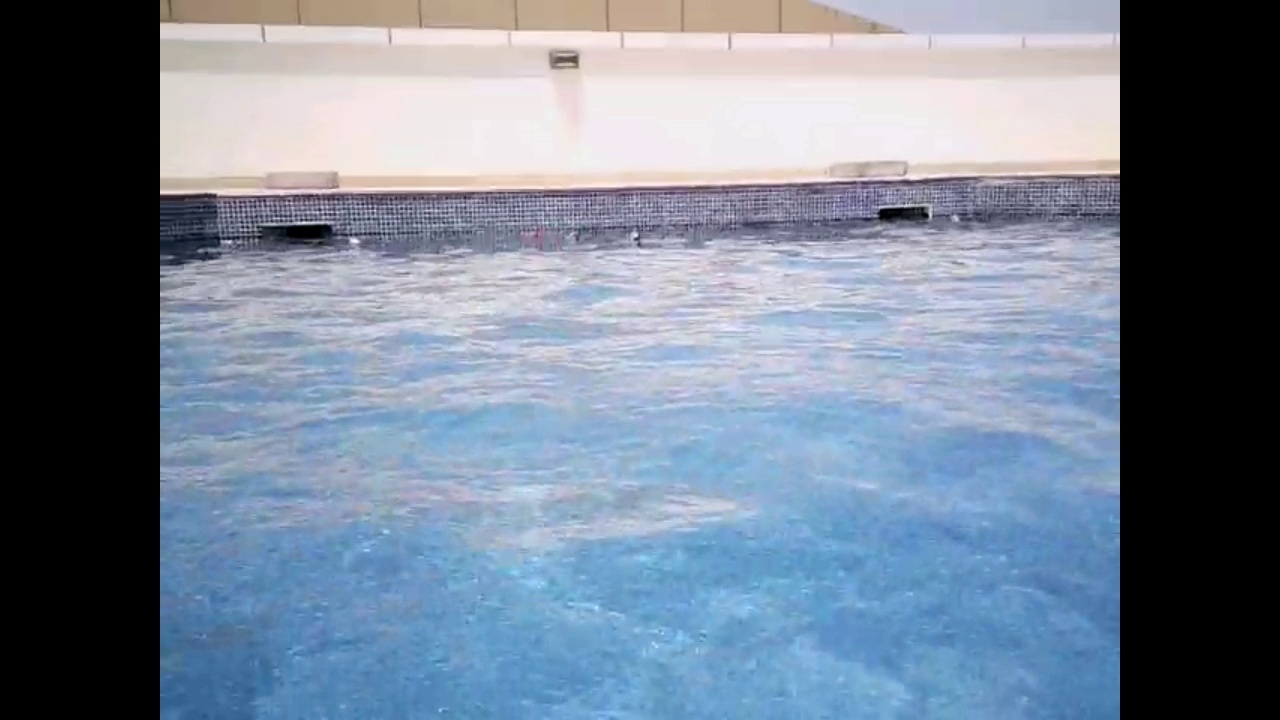debris: (946, 207, 962, 226), (522, 228, 542, 241), (346, 233, 362, 248), (568, 228, 585, 241), (630, 226, 642, 241)
